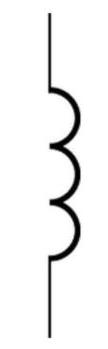inductor: (21, 65, 92, 272)
